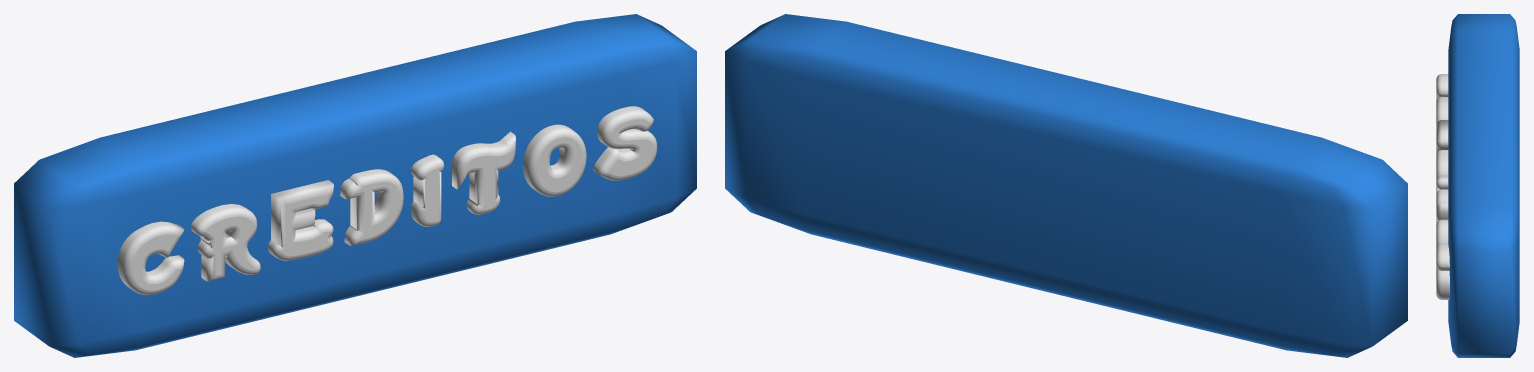
The model's file is BotonCreditos.fbx.
The picture shows the model from 3 angles, left to right: view 1: azimuth 30°, elevation 25°; view 2: azimuth 150°, elevation 25°; view 3: azimuth 270°, elevation 25°; orthographic projection. The views are drawn at different scales.
Parts seen in each view (by area): view 1: creditos, creditostexto; view 2: creditos; view 3: creditos, creditostexto.
Part boxes in pixels (x1,y1,x2,y2): creditos: [14, 14, 696, 357]; creditostexto: [117, 106, 657, 294]; creditos: [725, 14, 1407, 357]; creditos: [1448, 14, 1519, 357]; creditostexto: [1436, 74, 1449, 299].
Size of the model in its own units: 755 by 208 by 113.
